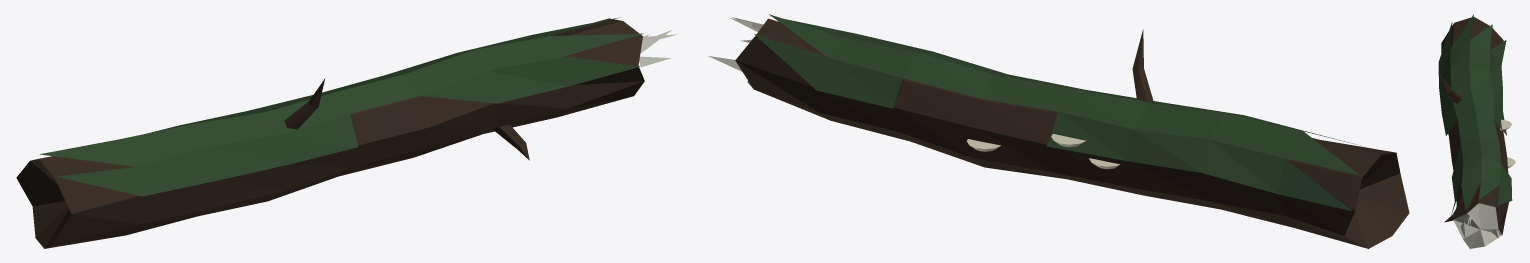
The model's file is fallen_log.glb.
3 renders of one model, left to right at view 1: azimuth 30°, elevation 25°; view 2: azimuth 150°, elevation 25°; view 3: azimuth 270°, elevation 25°, orthographic. The views are drawn at different scales.
Visible parts, largest first — view 1: log, log_moss, log_wood; view 2: log, log_moss, log_fungus, log_wood; view 3: log_moss, log, log_wood, log_fungus.
Boxes of the visible parts, box(x1,y1,x2,y2) form: log: box(16, 18, 644, 248); log_moss: box(40, 17, 643, 196); log_wood: box(639, 30, 677, 67); log: box(735, 18, 1409, 248); log_moss: box(754, 14, 1364, 211); log_fungus: box(967, 134, 1119, 169); log_wood: box(708, 17, 767, 87); log_moss: box(1438, 14, 1512, 215); log: box(1438, 17, 1508, 234); log_wood: box(1453, 203, 1502, 248); log_fungus: box(1500, 119, 1515, 167).
Size of the model in its own units: 4.4 by 0.9008 by 0.7331.
